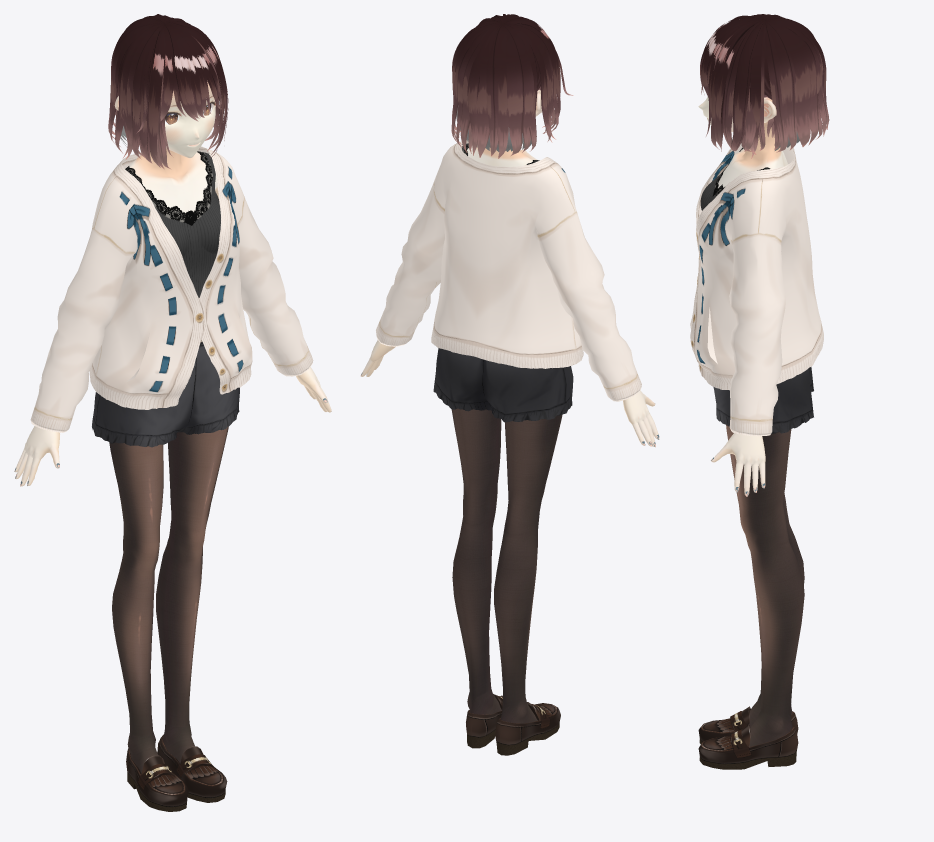
The model's file is avatar-sample-a.glb.
3 renders of one model, left to right at view 1: azimuth 30°, elevation 25°; view 2: azimuth 150°, elevation 25°; view 3: azimuth 270°, elevation 25°, orthographic. The views are drawn at different scales.
Visible parts, largest first — view 1: Body, Hair001, Face; view 2: Body, Hair001; view 3: Body, Hair001.
Part boxes in pixels (bbox=[...]): Body: bbox=[14, 21, 331, 811]; Hair001: bbox=[108, 14, 228, 168]; Face: bbox=[114, 80, 216, 158]; Body: bbox=[360, 56, 659, 755]; Hair001: bbox=[451, 14, 573, 158]; Body: bbox=[690, 21, 823, 769]; Hair001: bbox=[700, 14, 829, 158].
Bounding box in the file's own units: 1.11 × 2.7 × 0.7435.
Materials: 17 (17 with a texture image).
